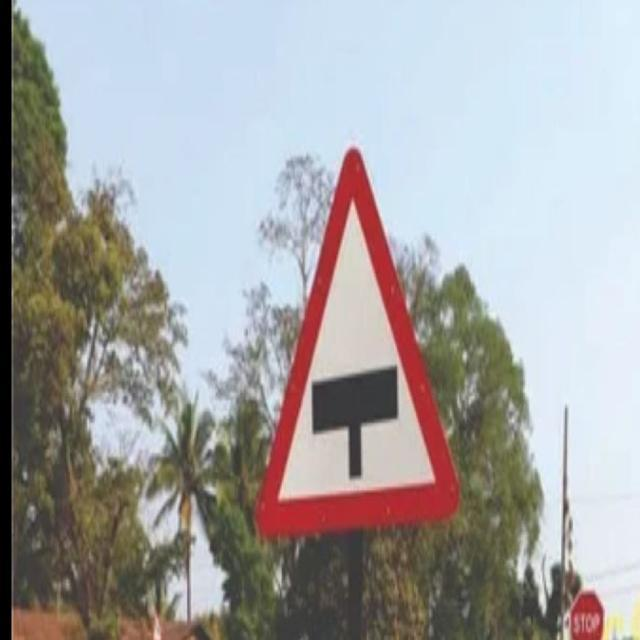t intersection: (264, 142, 451, 533)
